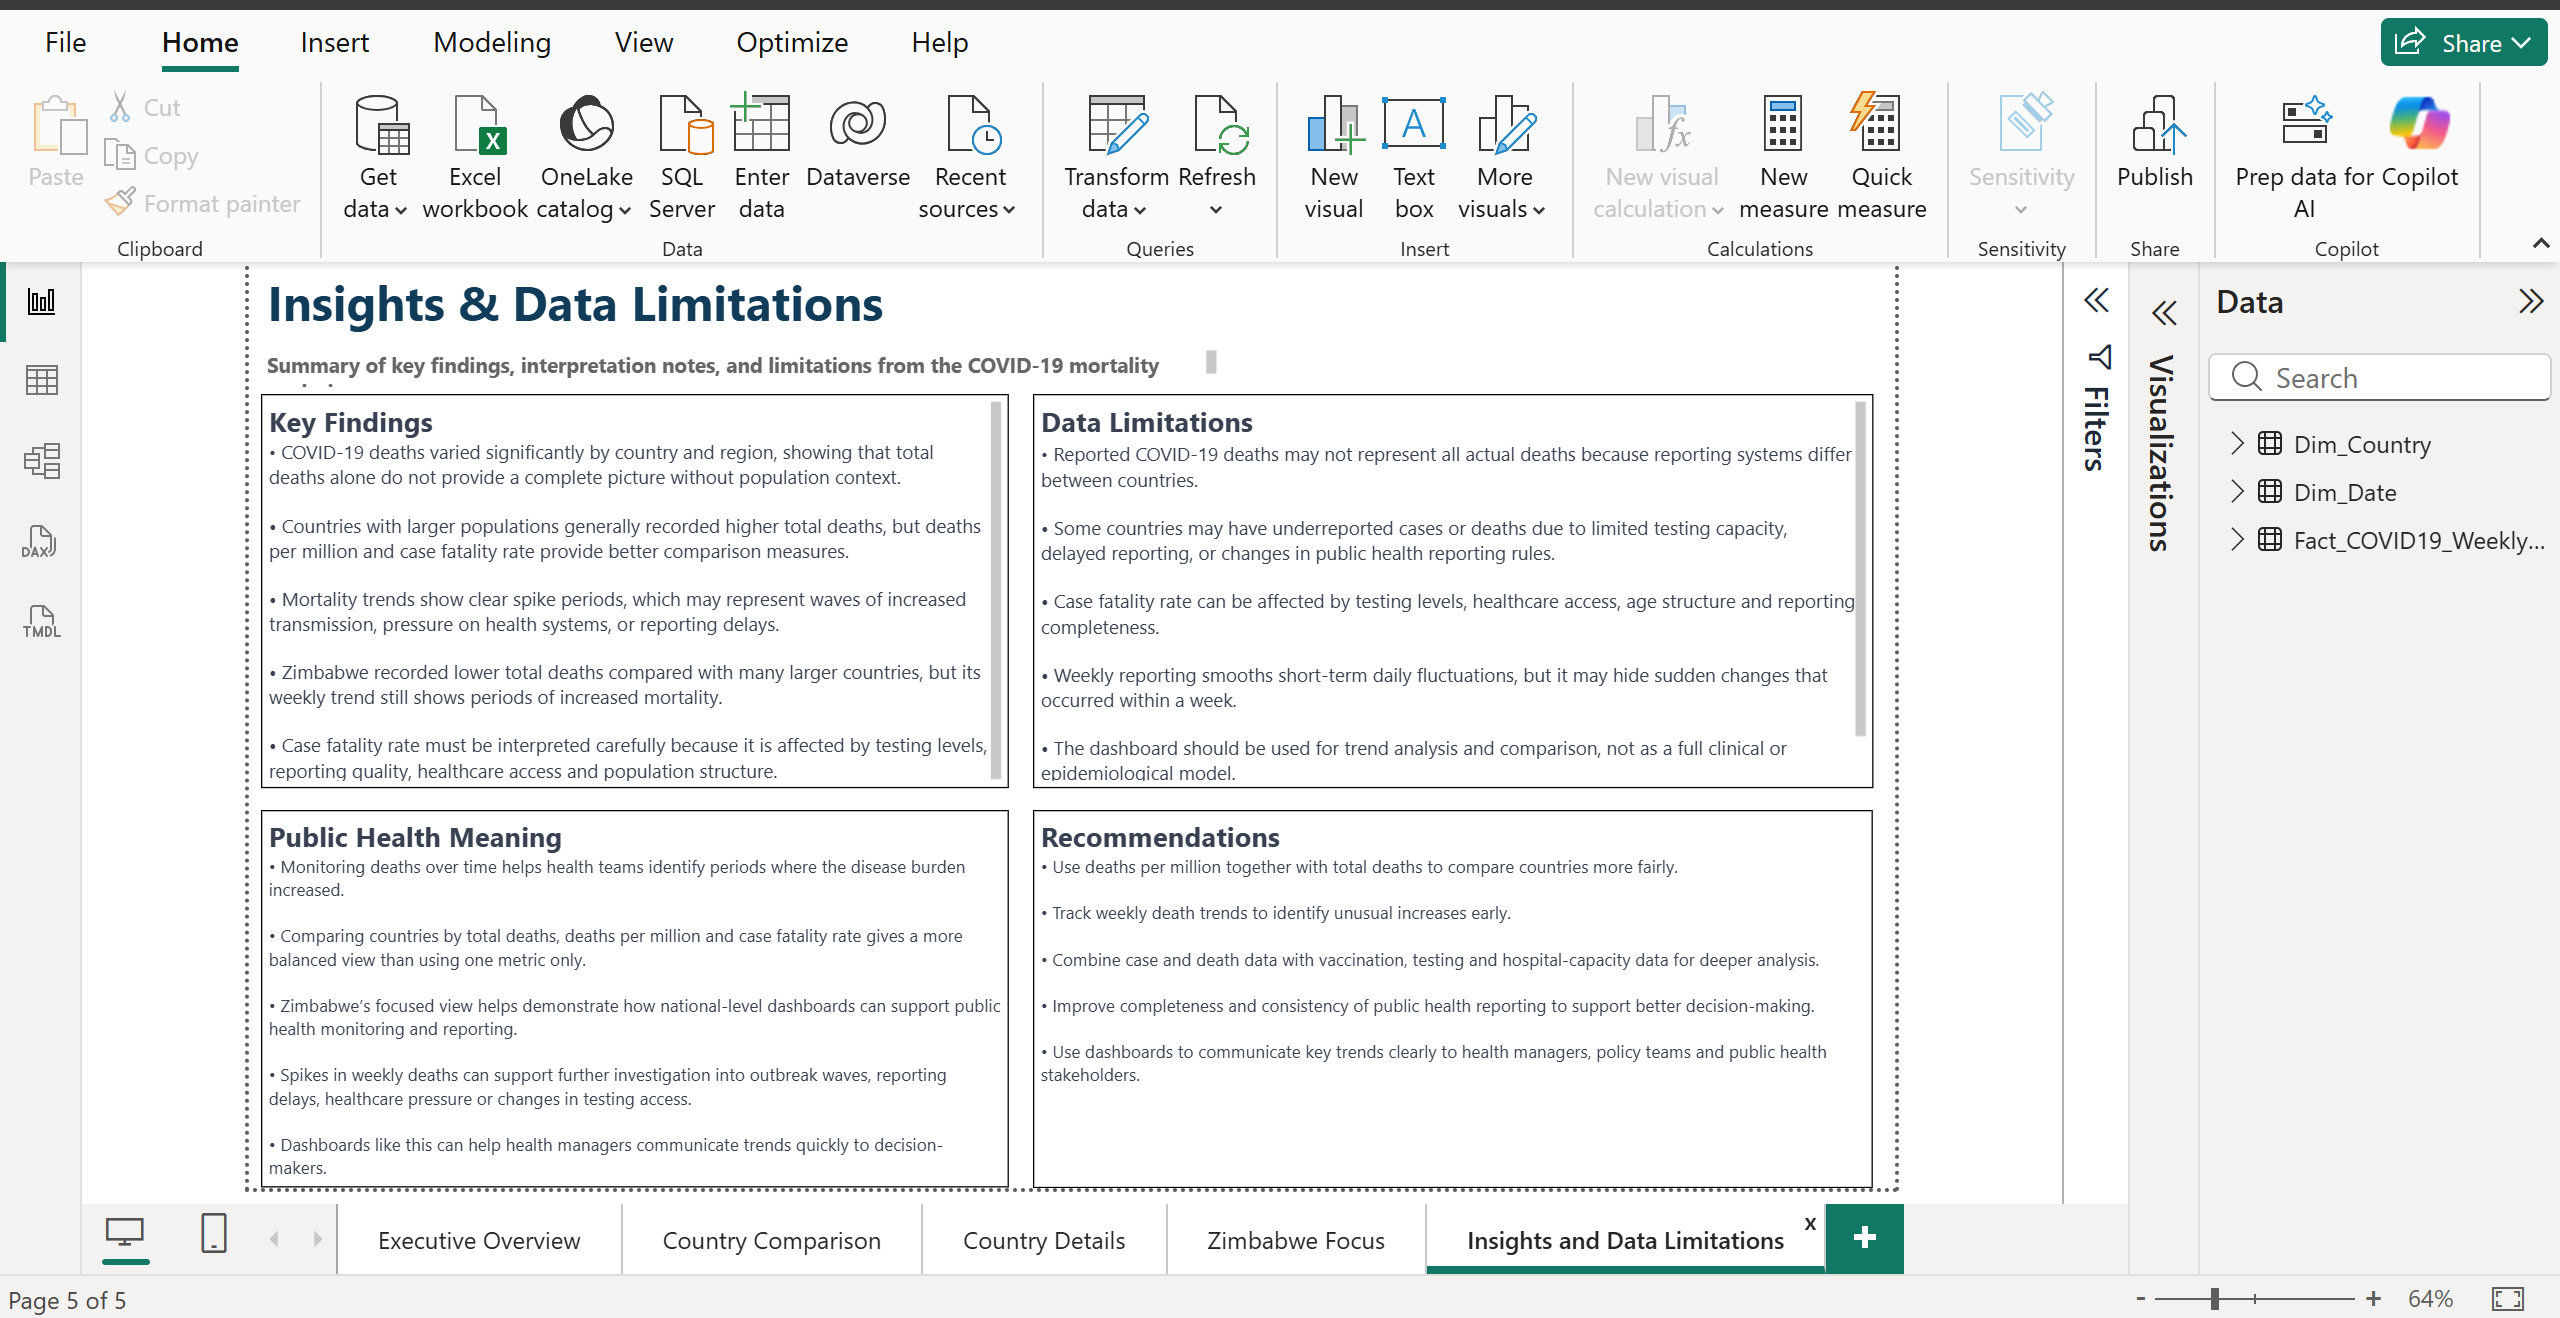

The page's visual inventory and layout, read from the dashboard file:
{"tool":"powerbi","page":{"name":"Insights and Data Limitations","canvas":[1280,720],"ordinal":4},"visuals":[{"type":"textbox","box":[9.5,0,545.3,64.4],"z":0},{"type":"textbox","box":[9.5,64.4,747.9,37.9],"z":1000},{"type":"textbox","box":[9.5,426,581.3,293.5],"z":2000},{"type":"textbox","box":[609.7,102.2,653.3,306.7],"z":3000},{"type":"textbox","box":[610,426,653,294],"z":4000},{"type":"textbox","box":[9.5,102.2,581.3,306.7],"z":5000}]}

Visuals, with their boxes on the page's 1280x720 design canvas (x1, y1, x2, y2). These are canvas units, not pixel positions in the 2560x1318 screenshot, which may show the page scaled, cropped or inside an application window:
textbox: [left=10, top=0, right=555, bottom=64]
textbox: [left=10, top=64, right=757, bottom=102]
textbox: [left=10, top=426, right=591, bottom=720]
textbox: [left=610, top=102, right=1263, bottom=409]
textbox: [left=610, top=426, right=1263, bottom=720]
textbox: [left=10, top=102, right=591, bottom=409]
